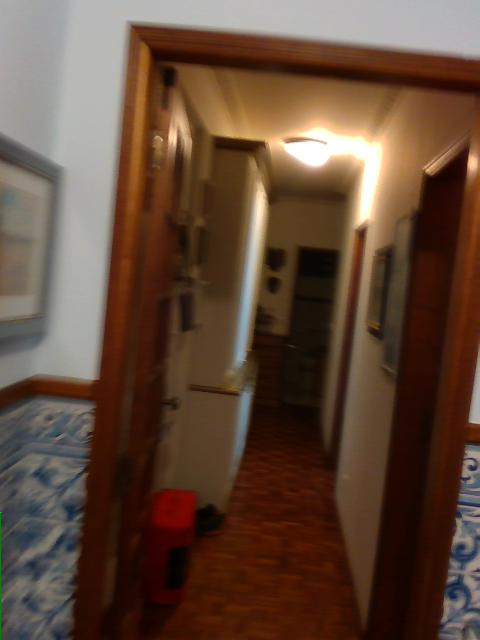open_door: (76, 20, 478, 638)
